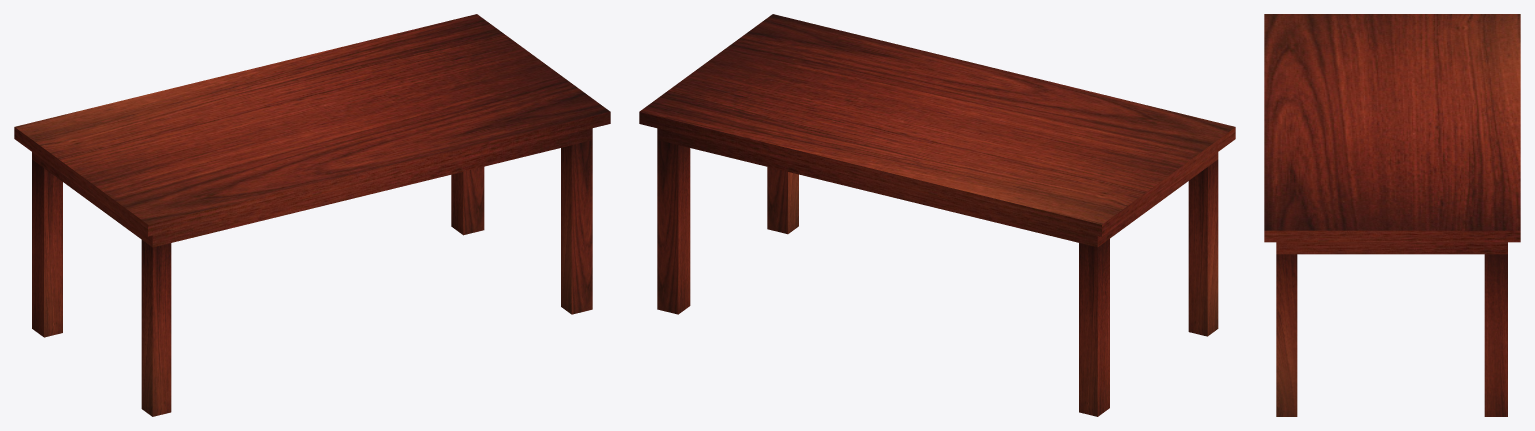
Rendered from table_1.fbx.
The picture shows the model from 3 angles, left to right: view 1: azimuth 30°, elevation 25°; view 2: azimuth 150°, elevation 25°; view 3: azimuth 270°, elevation 25°; orthographic projection. The views are drawn at different scales.
Visible parts, largest first — view 1: Table; view 2: Table; view 3: Table.
Part boxes in pixels (x1,y1,x2,y2): Table: (14,14,610,416); Table: (639,14,1235,416); Table: (1264,14,1520,416).
Bounding box in the file's own units: 400 × 165 × 200.
1 material, 1 textured.
